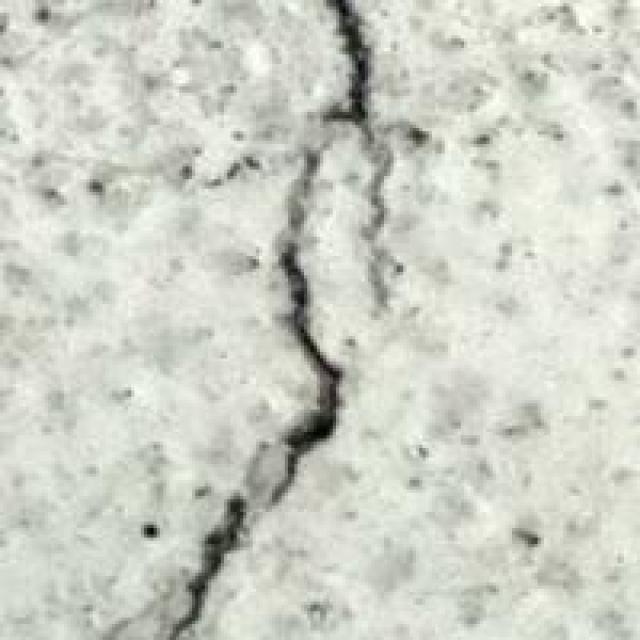crack: (144, 0, 451, 598)
